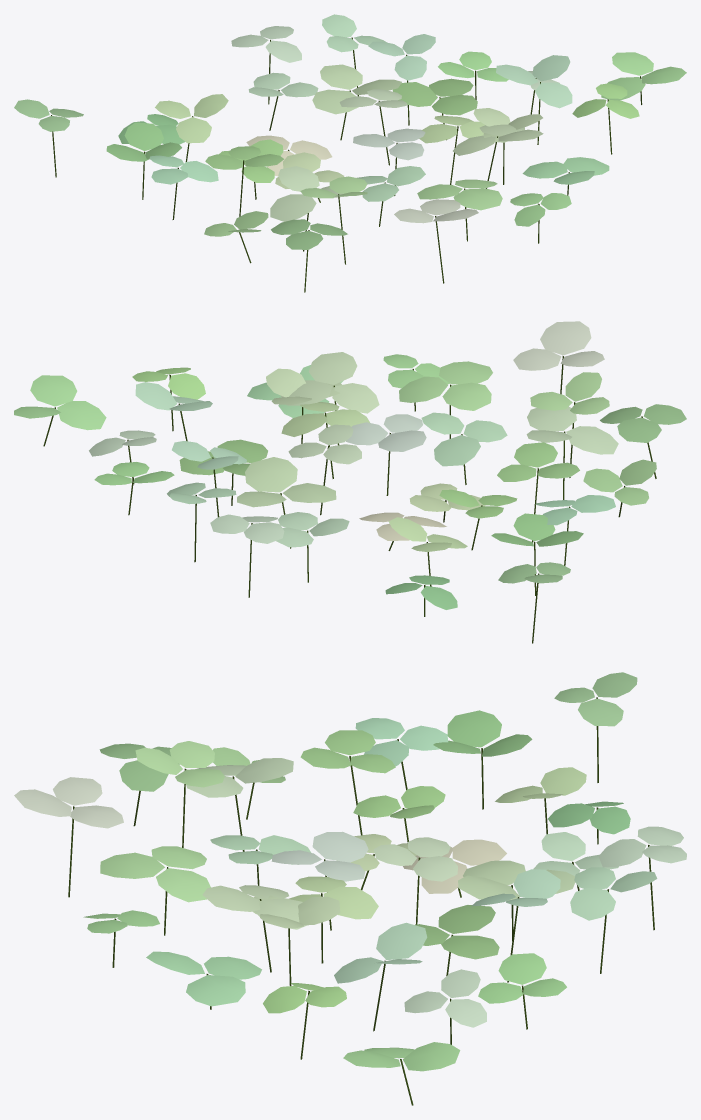
File: CloverClump_v02_A.fbx
3 renders of one model, top to bottom at view 1: azimuth 30°, elevation 25°; view 2: azimuth 150°, elevation 25°; view 3: azimuth 270°, elevation 25°, orthographic. The views are drawn at different scales.
Visible parts, largest first — view 1: CloverClump_v02_A; view 2: CloverClump_v02_A; view 3: CloverClump_v02_A.
Part boxes in pixels (x1=…): CloverClump_v02_A: x1=14, y1=14, x2=686, y2=292; CloverClump_v02_A: x1=14, y1=321, x2=686, y2=643; CloverClump_v02_A: x1=14, y1=672, x2=686, y2=1105.
Size of the model in its own units: 162 by 22.75 by 129.
